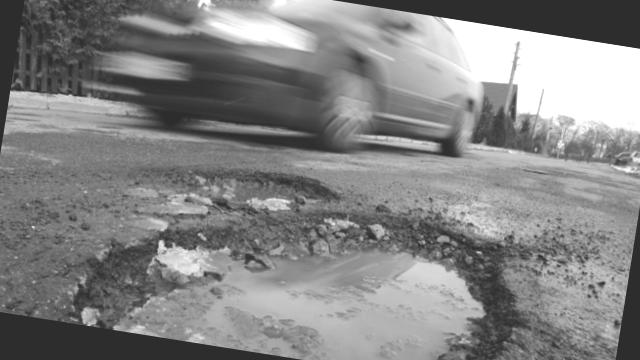Pothole: (32, 157, 538, 360), (166, 134, 354, 240), (501, 311, 620, 360)
